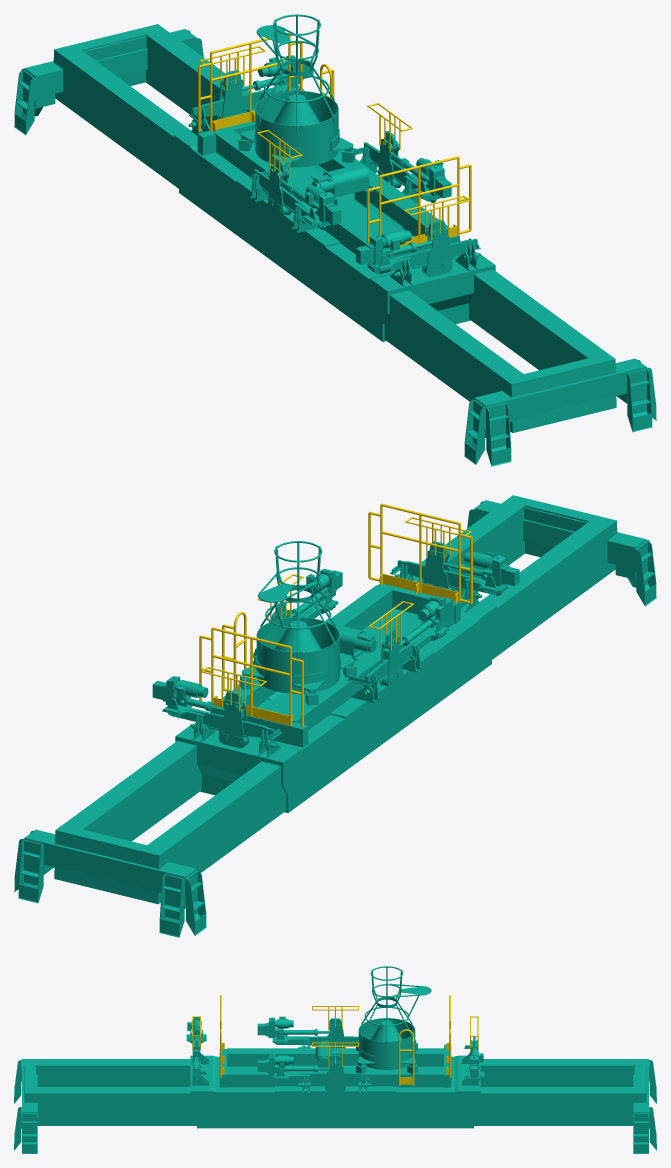
Rendered from Spreader.fbx.
3 views of the same model, one above another, from view 1: azimuth 30°, elevation 25°; view 2: azimuth 150°, elevation 25°; view 3: azimuth 270°, elevation 25° (orthographic). The views are drawn at different scales.
Visible parts, largest first — view 1: SHUTTLE582, SHUTTLE590, SHUTTLE580, SHUTTLE294, SHUTTLE421, SHUTTLE209, SHUTTLE50, SHUTTLE574, SHUTTLE662, SHUTTLE669; view 2: SHUTTLE582, SHUTTLE580, SHUTTLE590, SHUTTLE421, SHUTTLE294, SHUTTLE209, SHUTTLE642, SHUTTLE617, SHUTTLE610; view 3: SHUTTLE582, SHUTTLE590, SHUTTLE580, SHUTTLE50, SHUTTLE209, SHUTTLE645, SHUTTLE577, SHUTTLE294.
Part boxes in pixels (box(x1,y1,x2,y2)): SHUTTLE582: box(174, 14, 495, 341); SHUTTLE590: box(384, 270, 656, 465); SHUTTLE580: box(14, 24, 255, 188); SHUTTLE294: box(404, 195, 470, 277); SHUTTLE421: box(199, 45, 265, 119); SHUTTLE209: box(257, 130, 302, 216); SHUTTLE50: box(367, 103, 412, 188); SHUTTLE574: box(24, 63, 55, 106); SHUTTLE662: box(627, 369, 652, 431); SHUTTLE669: box(486, 403, 511, 466); SHUTTLE582: box(152, 503, 519, 812); SHUTTLE580: box(14, 741, 286, 936); SHUTTLE590: box(413, 495, 656, 659); SHUTTLE421: box(201, 666, 266, 748); SHUTTLE294: box(405, 517, 471, 590); SHUTTLE209: box(368, 601, 413, 687); SHUTTLE642: box(615, 534, 646, 578); SHUTTLE617: box(159, 874, 184, 937); SHUTTLE610: box(18, 840, 43, 903); SHUTTLE582: box(186, 966, 484, 1128); SHUTTLE590: box(14, 1059, 196, 1152); SHUTTLE580: box(474, 1059, 656, 1152); SHUTTLE50: box(312, 1042, 358, 1091); SHUTTLE209: box(312, 1005, 358, 1048); SHUTTLE645: box(22, 1113, 37, 1153); SHUTTLE577: box(633, 1113, 648, 1153); SHUTTLE294: box(192, 1016, 201, 1071).
Bounding box in the file's own units: 277 × 324 × 1250.
